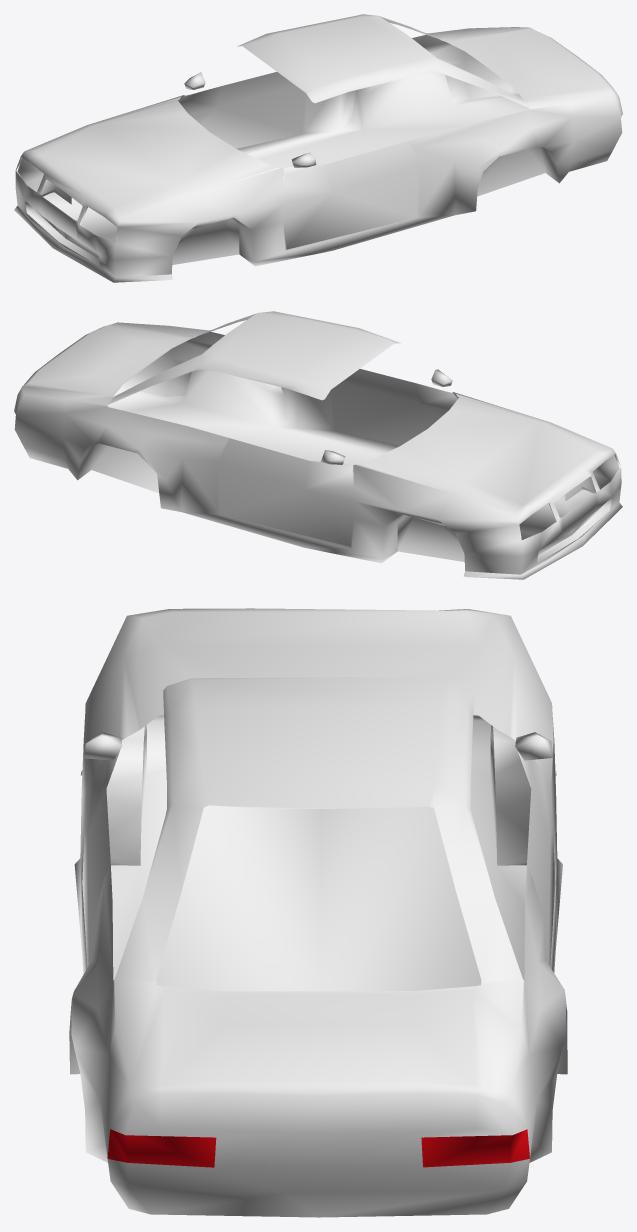
File: sedan0_chassis_d3.obj
3 renders of one model, top to bottom at view 1: azimuth 30°, elevation 25°; view 2: azimuth 150°, elevation 25°; view 3: azimuth 270°, elevation 25°, orthographic. The views are drawn at different scales.
Visible parts, largest first — view 1: Chassis; view 2: Chassis; view 3: Chassis.
Boxes of the visible parts, x1=… form: Chassis: x1=14, y1=14, x2=622, y2=282; Chassis: x1=14, y1=311, x2=622, y2=579; Chassis: x1=69, y1=608, x2=567, y2=1217.
Bounding box in the file's own units: 4.83 × 1.25 × 1.99.
1 material, 1 textured.
